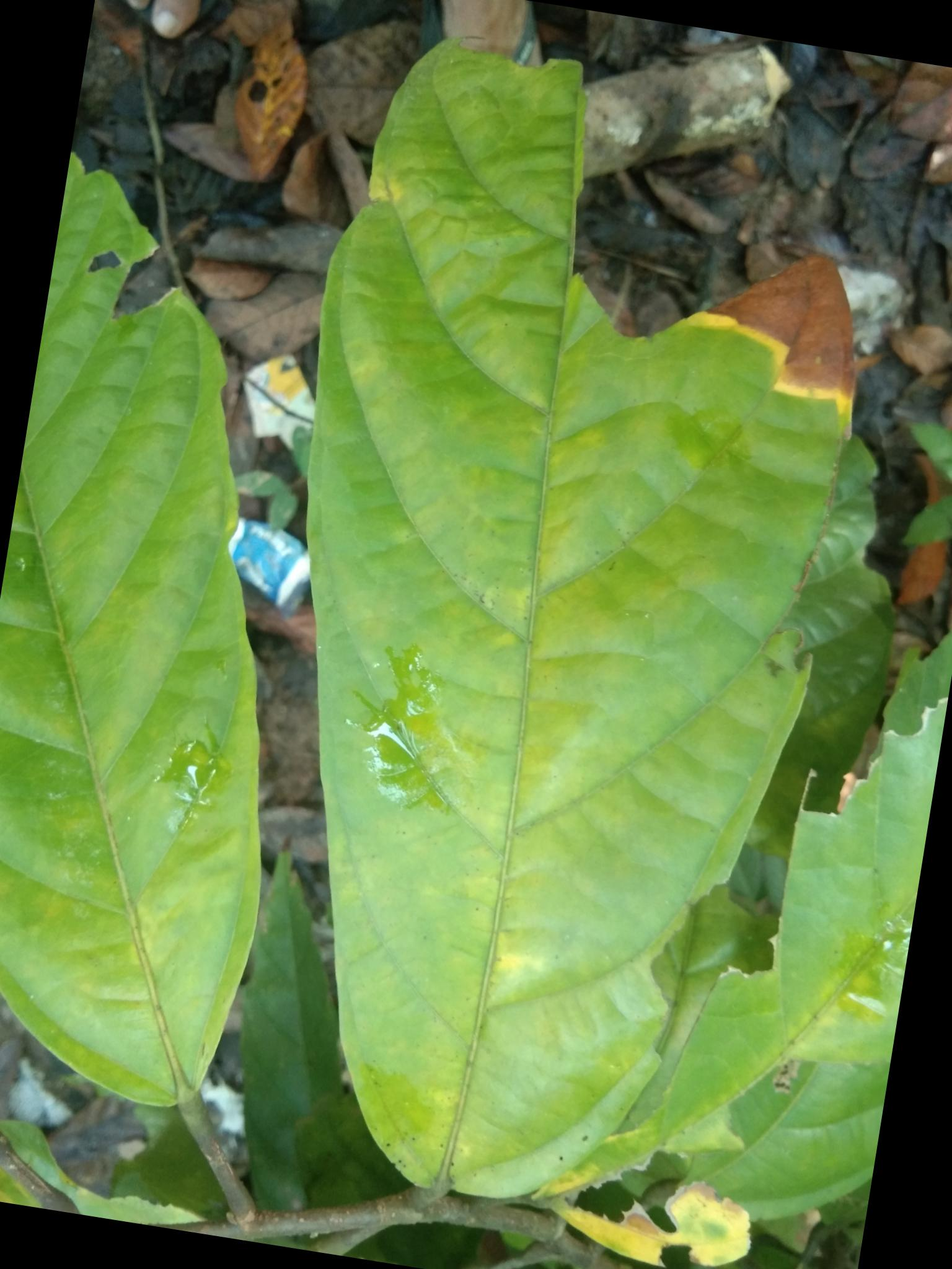Fosforo: (293, 43, 866, 1206)
